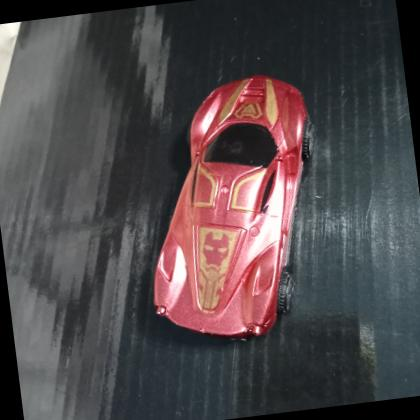Car: (124, 60, 346, 360)
